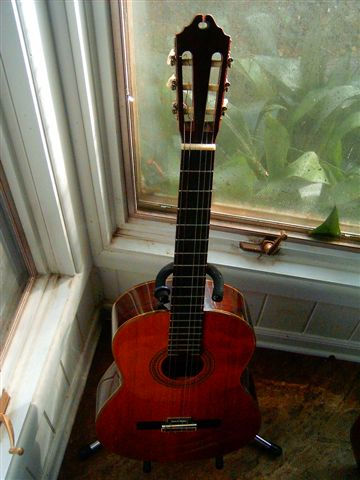guitar: (82, 10, 270, 464)
